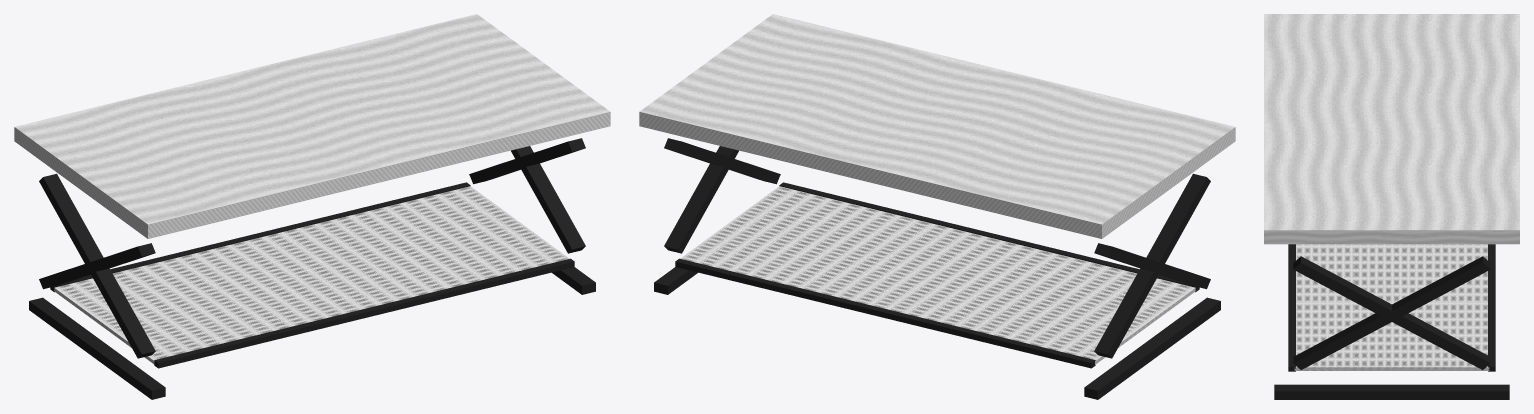
3 views of the same model, side by side, from view 1: azimuth 30°, elevation 25°; view 2: azimuth 150°, elevation 25°; view 3: azimuth 270°, elevation 25° (orthographic). The views are drawn at different scales.
Visible parts, largest first — view 1: 1 tabletop, 2 lower_mesh_shelf, 3 shelf_rail_front, 7 left_x_leg_1, 5 left_bottom_rail, 9 right_x_leg_1, 4 shelf_rail_back, 8 left_x_leg_2, 10 right_x_leg_2, 6 right_bottom_rail; view 2: 1 tabletop, 2 lower_mesh_shelf, 4 shelf_rail_back, 8 left_x_leg_2, 5 left_bottom_rail, 10 right_x_leg_2, 3 shelf_rail_front, 9 right_x_leg_1, 7 left_x_leg_1, 6 right_bottom_rail; view 3: 1 tabletop, 2 lower_mesh_shelf, 6 right_bottom_rail, 9 right_x_leg_1, 10 right_x_leg_2, 3 shelf_rail_front, 4 shelf_rail_back.
Boxes of the visible parts, left/top/right/bottom form: 1 tabletop: left=14, top=14, right=610, bottom=238; 2 lower_mesh_shelf: left=54, top=186, right=569, bottom=364; 3 shelf_rail_front: left=154, top=258, right=574, bottom=368; 7 left_x_leg_1: left=39, top=173, right=155, bottom=358; 5 left_bottom_rail: left=29, top=297, right=165, bottom=399; 9 right_x_leg_1: left=511, top=146, right=585, bottom=253; 4 shelf_rail_back: left=50, top=182, right=470, bottom=292; 8 left_x_leg_2: left=39, top=243, right=155, bottom=289; 10 right_x_leg_2: left=469, top=138, right=585, bottom=184; 6 right_bottom_rail: left=552, top=267, right=595, bottom=294; 1 tabletop: left=639, top=14, right=1235, bottom=238; 2 lower_mesh_shelf: left=680, top=186, right=1195, bottom=364; 4 shelf_rail_back: left=675, top=258, right=1095, bottom=368; 8 left_x_leg_2: left=1094, top=173, right=1210, bottom=358; 5 left_bottom_rail: left=1084, top=297, right=1220, bottom=399; 10 right_x_leg_2: left=664, top=146, right=738, bottom=253; 3 shelf_rail_front: left=779, top=182, right=1199, bottom=292; 9 right_x_leg_1: left=664, top=138, right=780, bottom=184; 7 left_x_leg_1: left=1094, top=243, right=1210, bottom=289; 6 right_bottom_rail: left=654, top=267, right=697, bottom=294; 1 tabletop: left=1264, top=14, right=1519, bottom=244; 2 lower_mesh_shelf: left=1294, top=244, right=1489, bottom=370; 6 right_bottom_rail: left=1274, top=384, right=1509, bottom=399; 9 right_x_leg_1: left=1293, top=256, right=1490, bottom=369; 10 right_x_leg_2: left=1293, top=256, right=1490, bottom=369; 3 shelf_rail_front: left=1288, top=244, right=1295, bottom=371; 4 shelf_rail_back: left=1488, top=244, right=1495, bottom=371.
Size of the model in its own units: 1.2 by 0.4496 by 0.5994.
Materials: 3 (2 with a texture image).
